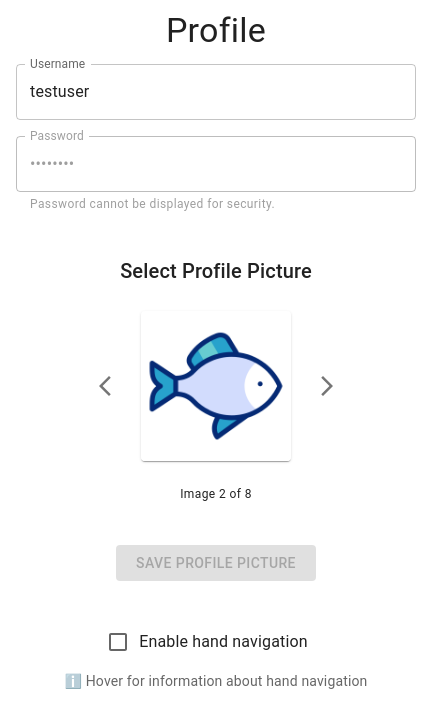
Test case: Profile Component › save button is disabled initially and toggles state correctly
Check: the button "Save Profile Picture" is disabled, box [116,545,316,581]
Click the button named "next image" at coordinates (327, 386), box [307,366,347,406]
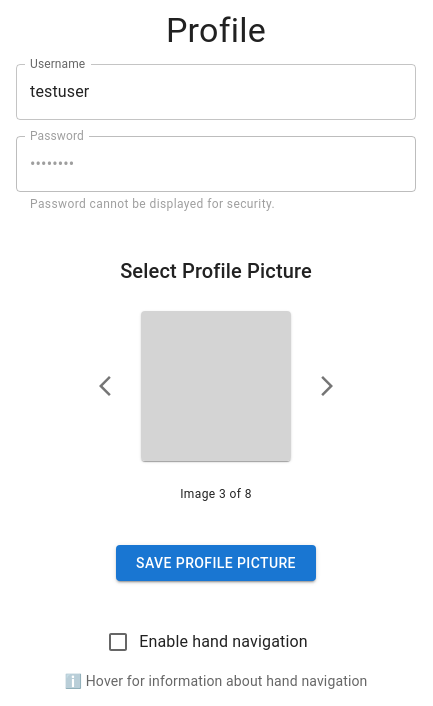
Check: the button "Save Profile Picture" is enabled, box [116,545,316,581]
Click the button named "previous image" at coordinates (105, 386), box [85,366,125,406]
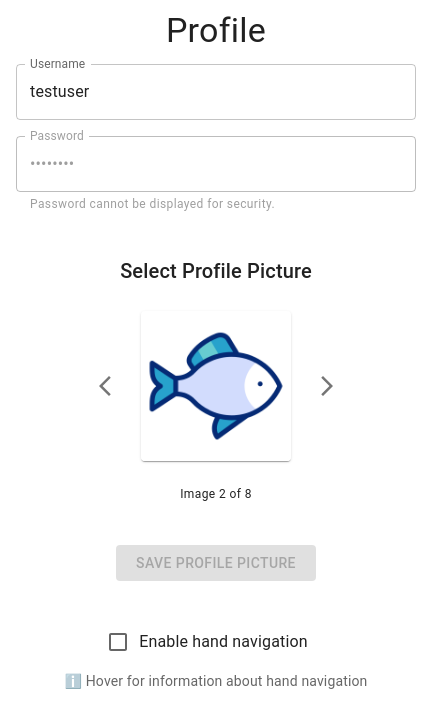
Check: the button "Save Profile Picture" is disabled, box [116,545,316,581]
